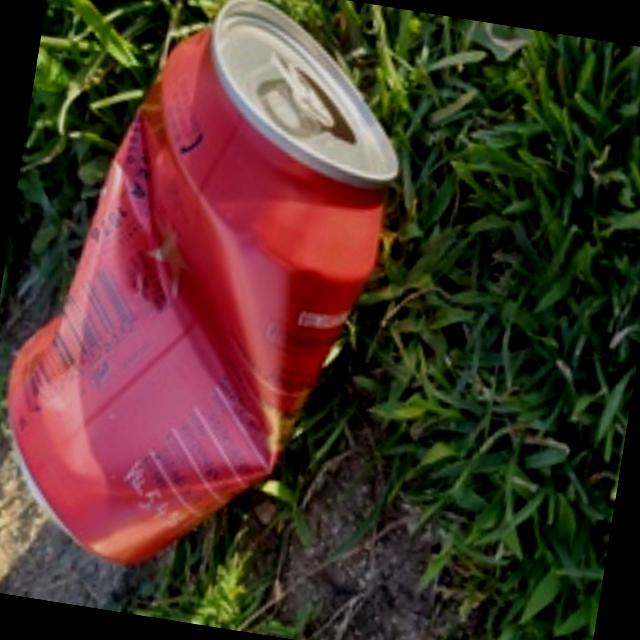Metal: (0, 0, 422, 597)
